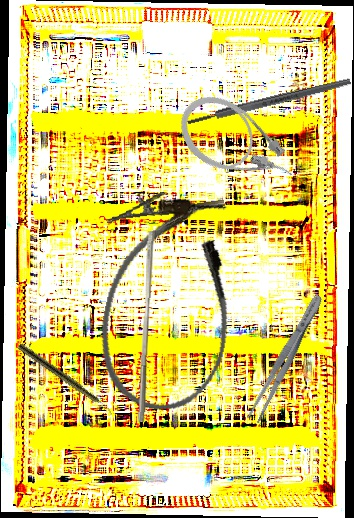Cannula: (86, 185, 254, 422), (166, 82, 306, 209)
Dressing Forceps: (244, 292, 328, 425)
Handpiece: (15, 342, 118, 417)
Needle Holder: (103, 183, 226, 224)
Pusher: (137, 230, 156, 423)
Scalpel Handle: (186, 76, 352, 128)
